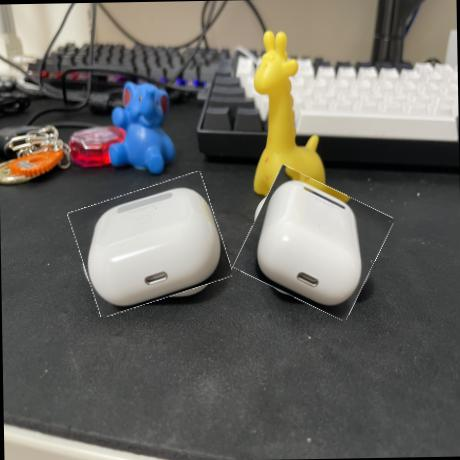airpod2: (240, 174, 386, 312)
airpod3: (72, 180, 226, 310)
